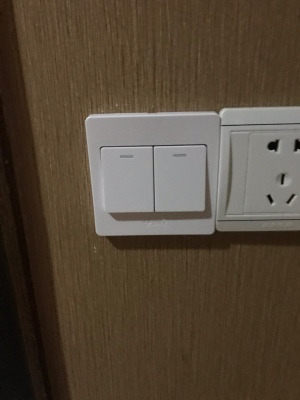switch: (95, 141, 159, 216), (150, 142, 211, 215)
